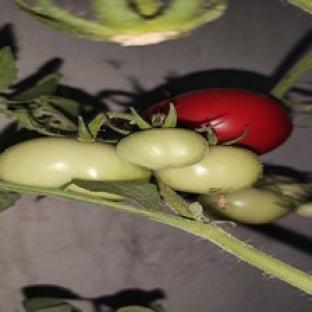Tomato: (147, 88, 292, 154), (0, 138, 150, 188), (154, 145, 263, 193), (117, 129, 208, 169), (198, 189, 291, 224), (294, 202, 311, 217)
